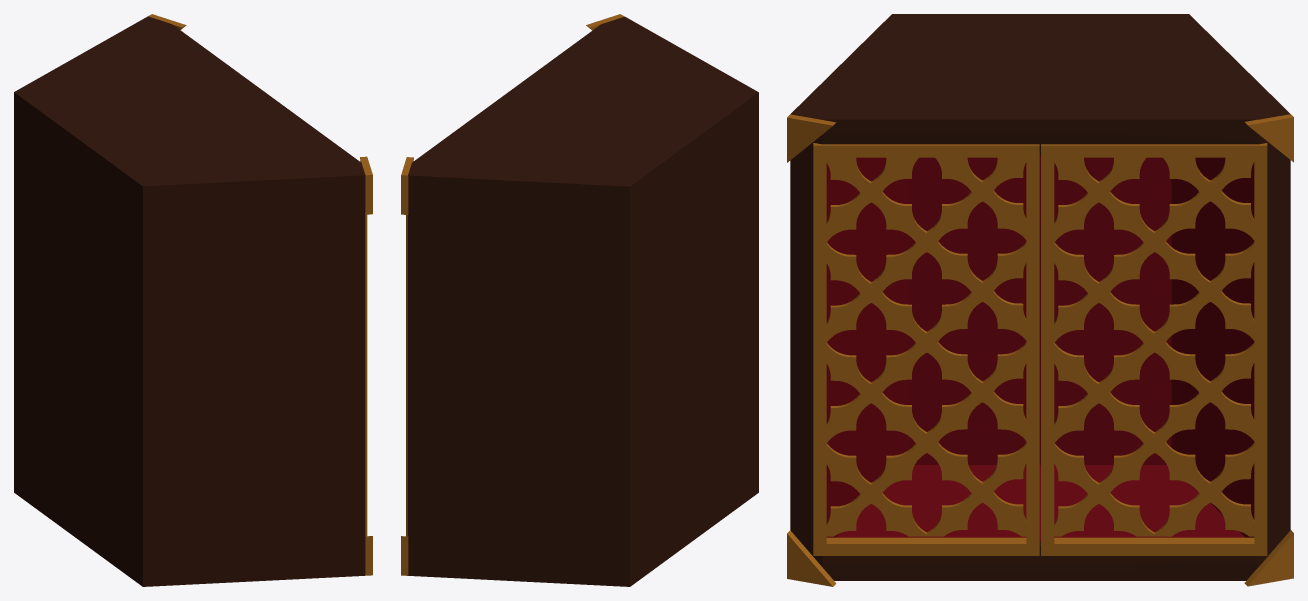
The model's file is Cell_Doors_Red.glb.
The picture shows the model from 3 angles, left to right: view 1: azimuth 30°, elevation 25°; view 2: azimuth 150°, elevation 25°; view 3: azimuth 270°, elevation 25°; orthographic projection. The views are drawn at different scales.
Visible parts, largest first — view 1: Cube, Plane.001; view 2: Cube, Plane.002; view 3: Cube, Plane.001, Plane.002.
Part boxes in pixels (left/top/right/bottom): Cube: left=14, top=14, right=372, bottom=586; Plane.001: left=365, top=213, right=367, bottom=536; Cube: left=401, top=14, right=758, bottom=586; Plane.002: left=406, top=215, right=407, bottom=536; Cube: left=787, top=14, right=1293, bottom=586; Plane.001: left=813, top=143, right=1039, bottom=555; Plane.002: left=1041, top=143, right=1267, bottom=555.
Size of the model in its own units: 1.04 by 2 by 1.99.
